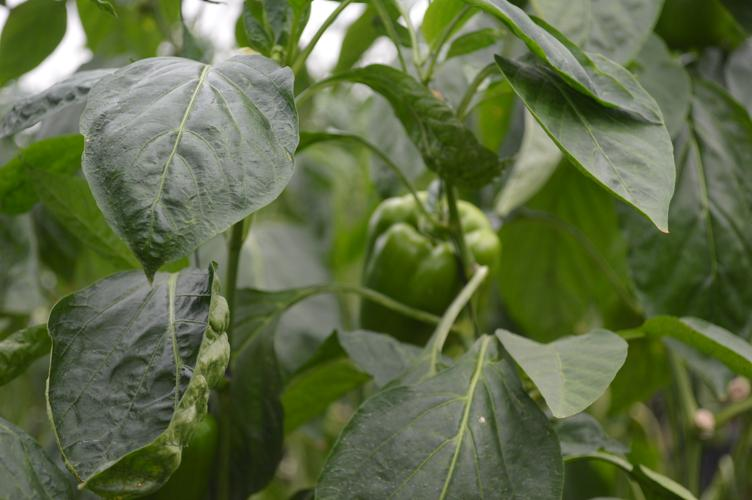BellPepper: (355, 189, 503, 360)
